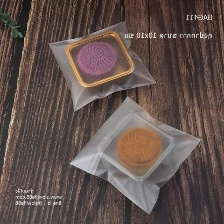snack: (63, 90, 206, 217), (41, 15, 161, 116)
